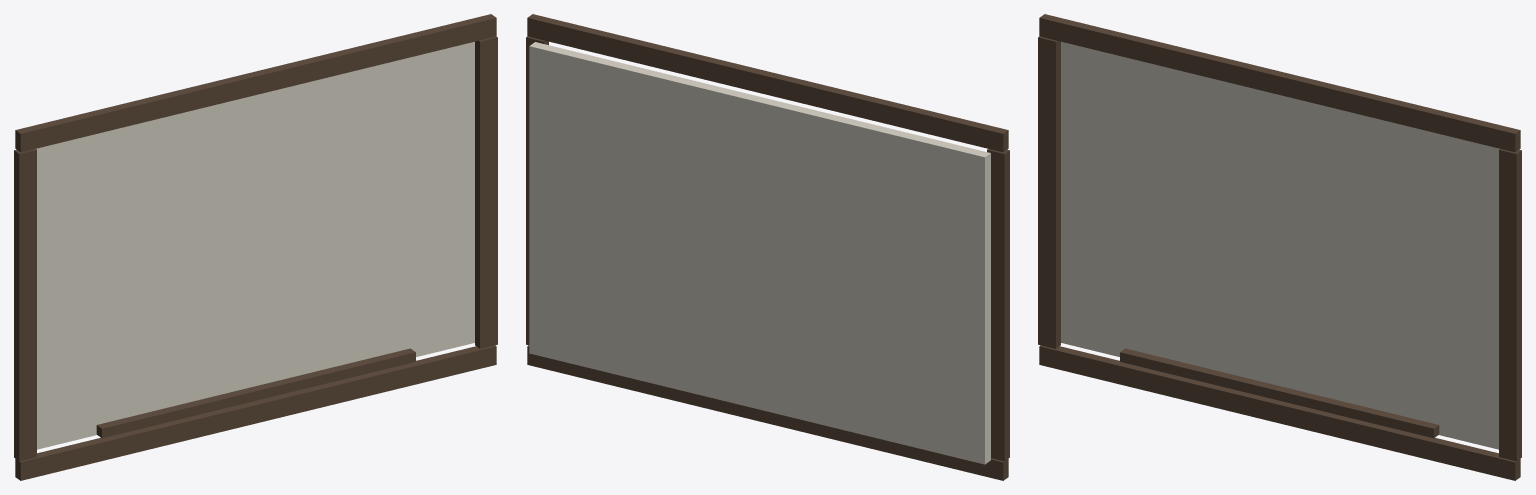
The model's file is boards--whiteboard--v1--model.glb.
The picture shows the model from 3 angles, left to right: view 1: azimuth 30°, elevation 25°; view 2: azimuth 150°, elevation 25°; view 3: azimuth 330°, elevation 25°; orthographic projection.
Parts seen in each view (by area): view 1: information-back, frame-top, frame-bottom, frame-left, frame-right, marker-shelf; view 2: information-back, frame-top, frame-bottom, frame-left, frame-right; view 3: information-back, frame-top, frame-bottom, frame-right, frame-left, marker-shelf.
Part boxes in pixels (bbox=[...]): information-back: bbox=[36, 41, 474, 449]; frame-top: bbox=[15, 14, 496, 152]; frame-bottom: bbox=[15, 345, 496, 480]; frame-left: bbox=[14, 149, 36, 461]; frame-right: bbox=[475, 36, 497, 348]; marker-shelf: bbox=[96, 348, 415, 438]; information-back: bbox=[529, 42, 990, 464]; frame-top: bbox=[527, 14, 1008, 152]; frame-bottom: bbox=[527, 345, 1008, 480]; frame-left: bbox=[987, 149, 1009, 461]; frame-right: bbox=[526, 36, 548, 345]; information-back: bbox=[1061, 41, 1499, 449]; frame-top: bbox=[1039, 14, 1520, 152]; frame-bottom: bbox=[1039, 345, 1520, 480]; frame-right: bbox=[1499, 149, 1521, 461]; frame-left: bbox=[1038, 36, 1060, 348]; marker-shelf: bbox=[1120, 348, 1439, 438].
Size of the model in its own units: 0.945 by 0.655 by 0.047.
